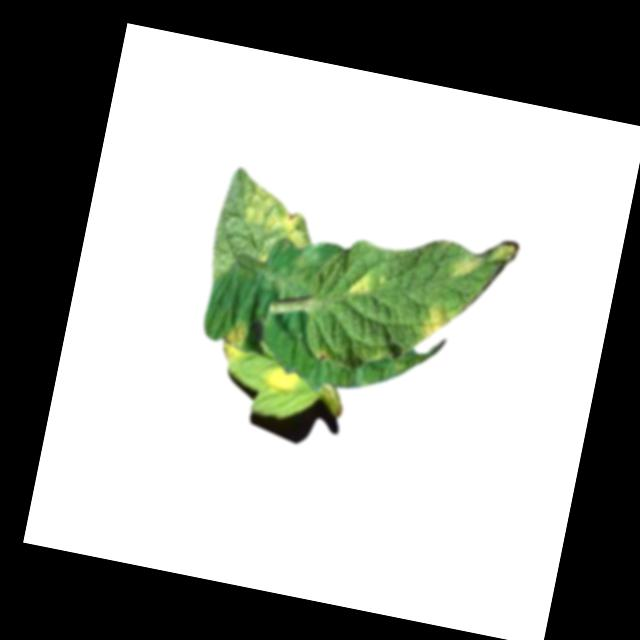Leaf_Mold: (241, 184, 316, 248), (213, 317, 251, 367), (254, 361, 302, 399), (417, 301, 456, 342), (342, 268, 377, 303), (490, 239, 520, 270), (452, 251, 480, 282)
